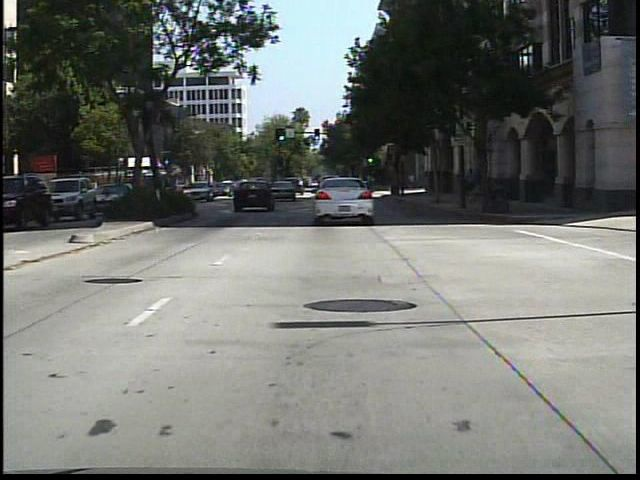person: (465, 163, 483, 206)
